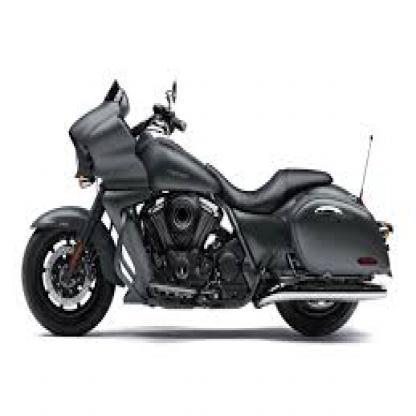Motorcycle: (18, 81, 394, 345)
